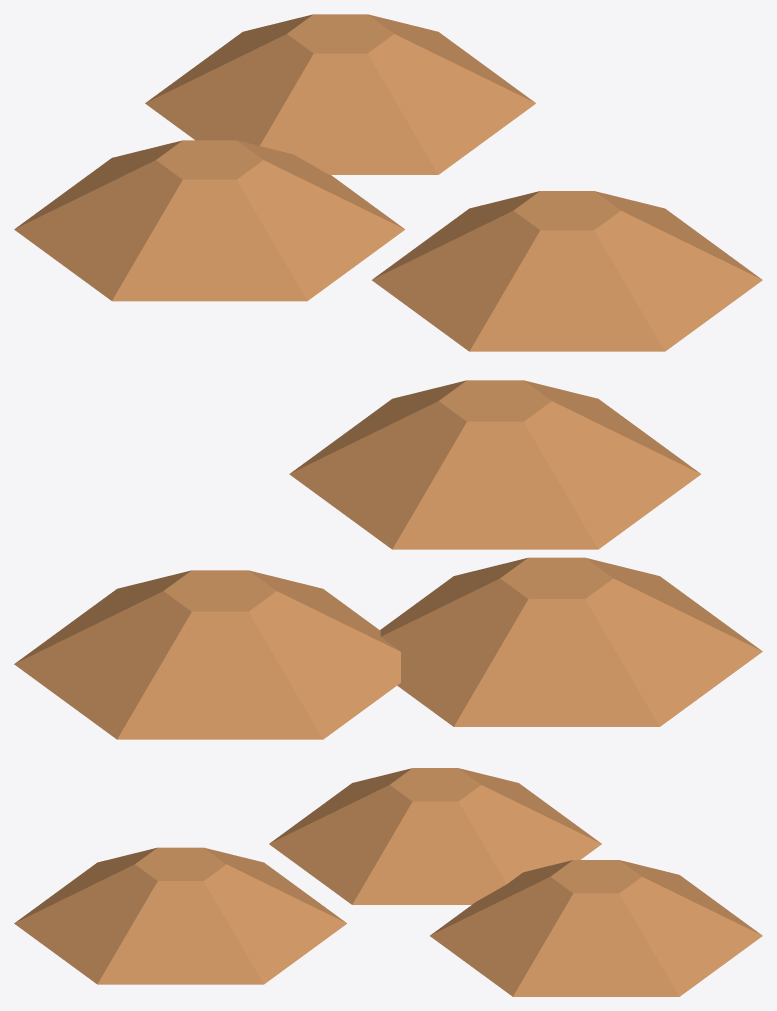
File: Deer-4.fbx
3 renders of one model, top to bottom at view 1: azimuth 30°, elevation 25°; view 2: azimuth 150°, elevation 25°; view 3: azimuth 270°, elevation 25°, orthographic. The views are drawn at different scales.
Parts seen in each view (by area): view 1: Deer-4; view 2: Deer-4; view 3: Deer-4.
Boxes of the visible parts, x1,y1,x2,y2 form: Deer-4: (14, 14, 762, 351); Deer-4: (14, 380, 762, 739); Deer-4: (14, 768, 762, 996).
Bounding box in the file's own units: 55.98 × 8 × 82.16.
